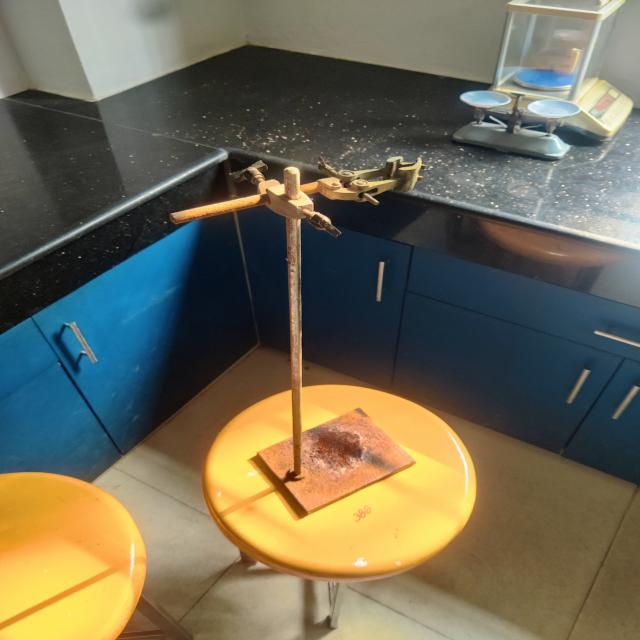Burette_Stands: (141, 138, 432, 506)
